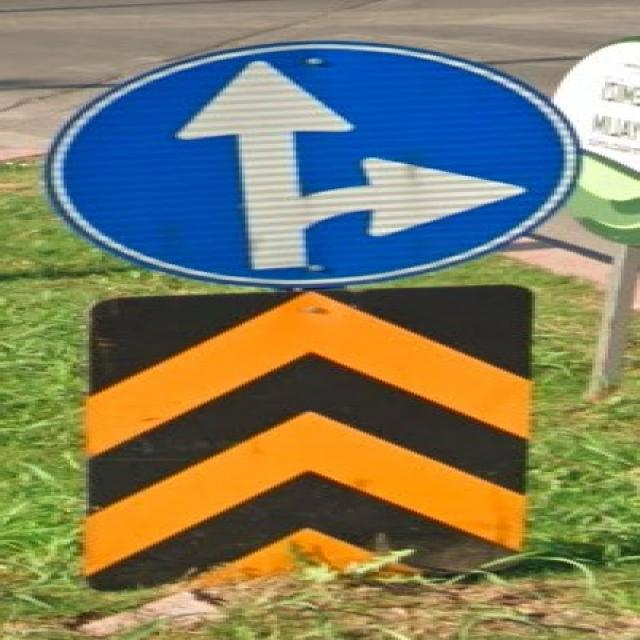Straight or Right: (66, 50, 566, 285)
